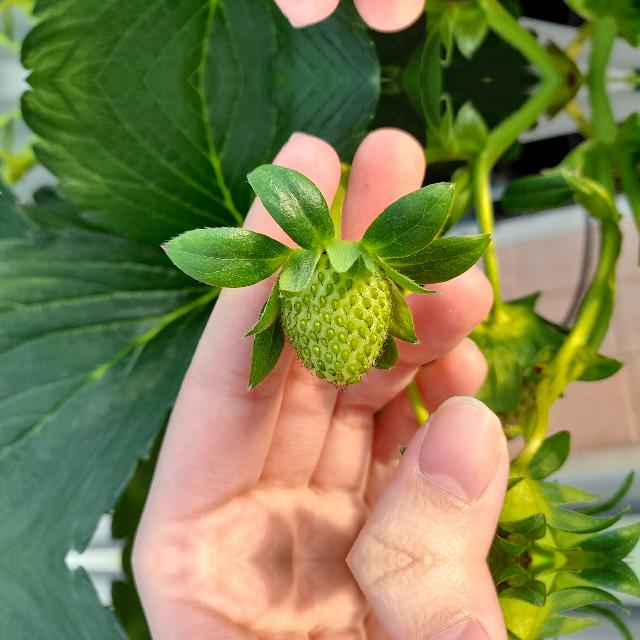Health_25: (280, 250, 392, 384)
